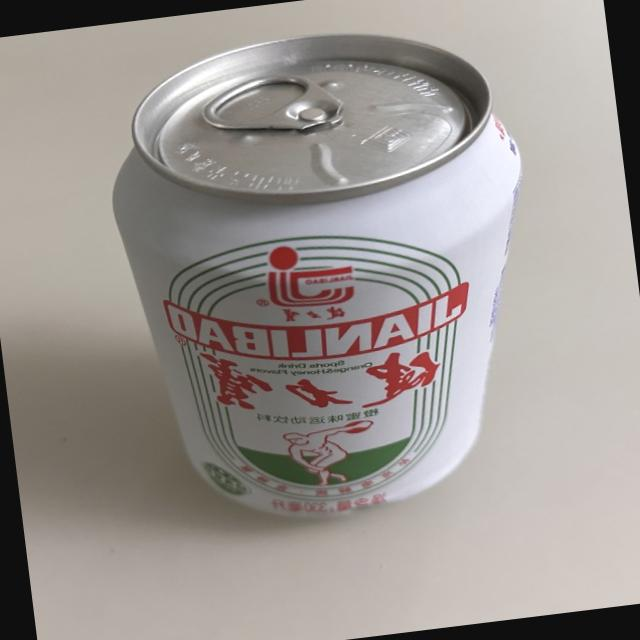can: (90, 7, 568, 541)
